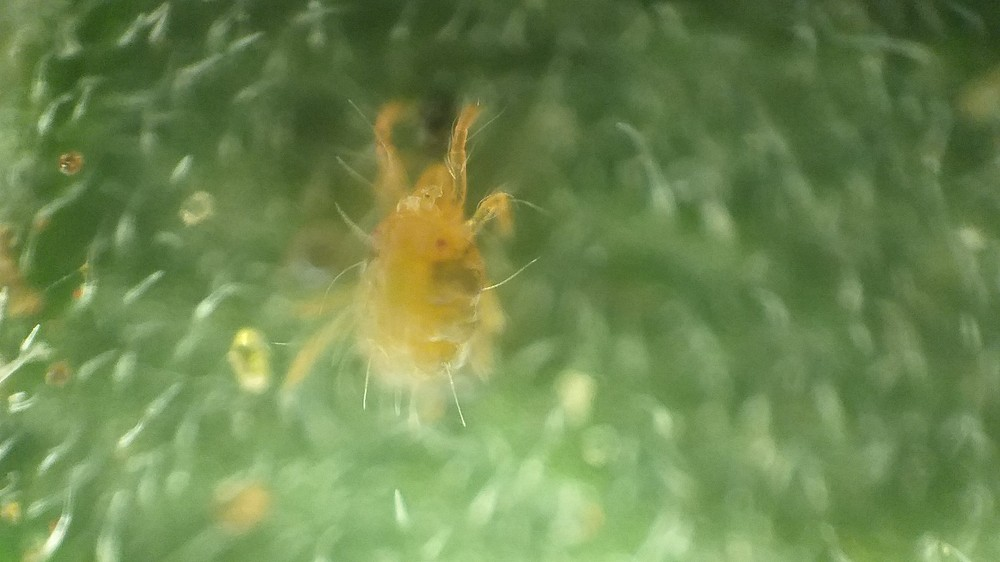Aracnido Rojo: (296, 104, 554, 461)
